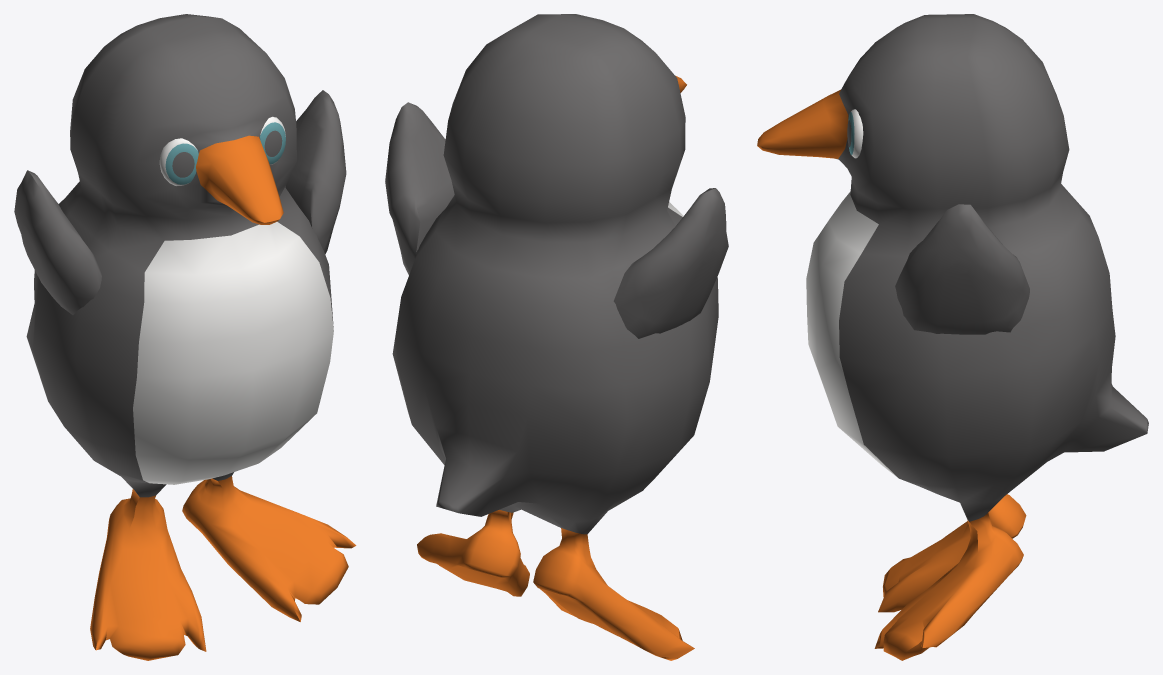
The model's file is Penguin_2_231109.glb.
3 views of the same model, side by side, from view 1: azimuth 30°, elevation 25°; view 2: azimuth 150°, elevation 25°; view 3: azimuth 270°, elevation 25° (orthographic). The views are drawn at different scales.
Parts seen in each view (by area): view 1: Penguin_2; view 2: Penguin_2; view 3: Penguin_2.
Boxes of the visible parts, x1=… form: Penguin_2: x1=14, y1=14, x2=356, y2=660; Penguin_2: x1=385, y1=14, x2=728, y2=660; Penguin_2: x1=757, y1=14, x2=1148, y2=660.
Bounding box in the file's own units: 0.7566 × 1.39 × 0.8278.
Materials: 1 (1 with a texture image).
